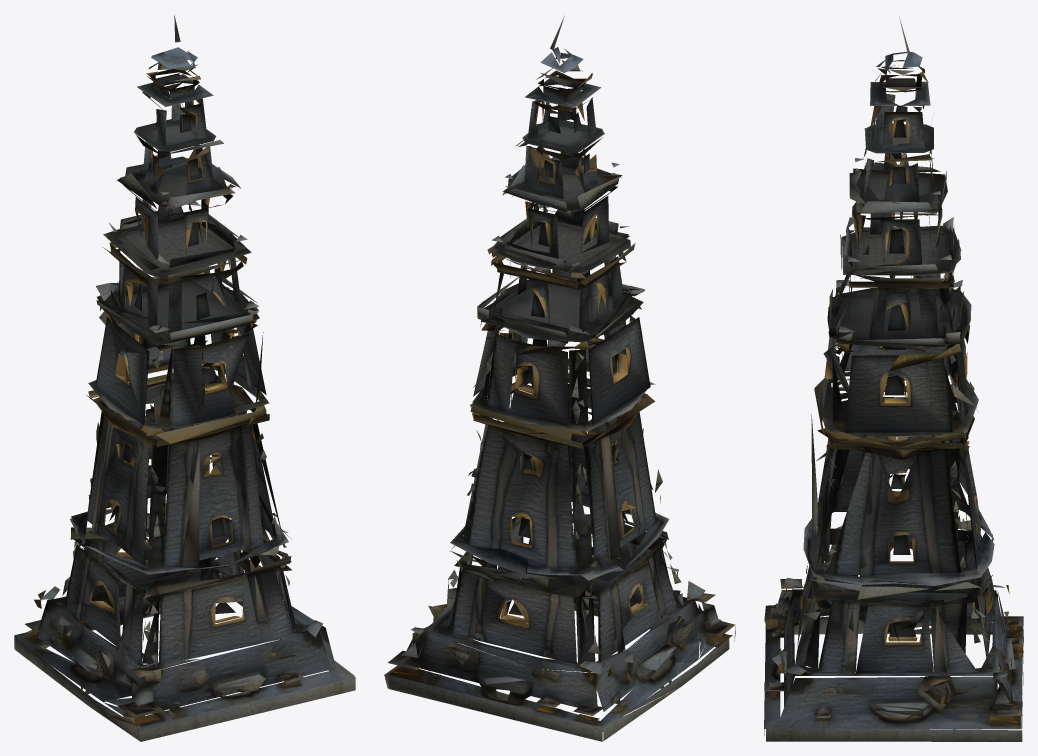
The model's file is ch7_city_of_echoes_tower_LOD3.glb.
The picture shows the model from 3 angles, left to right: view 1: azimuth 30°, elevation 25°; view 2: azimuth 150°, elevation 25°; view 3: azimuth 270°, elevation 25°; orthographic projection. The views are drawn at different scales.
Visible parts, largest first — view 1: tripo_node_c2a44c5a-c4bc-4a38-bb47-af0087f2003a; view 2: tripo_node_c2a44c5a-c4bc-4a38-bb47-af0087f2003a; view 3: tripo_node_c2a44c5a-c4bc-4a38-bb47-af0087f2003a.
Boxes of the visible parts, x1=… form: tripo_node_c2a44c5a-c4bc-4a38-bb47-af0087f2003a: x1=14, y1=15, x2=355, y2=741; tripo_node_c2a44c5a-c4bc-4a38-bb47-af0087f2003a: x1=384, y1=16, x2=735, y2=741; tripo_node_c2a44c5a-c4bc-4a38-bb47-af0087f2003a: x1=764, y1=16, x2=1023, y2=741.
Bounding box in the file's own units: 0.3793 × 0.9968 × 0.3505.
Materials: 1 (1 with a texture image).
